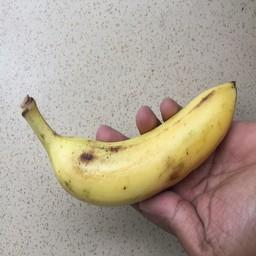Banana Ripe: (15, 77, 256, 211)
